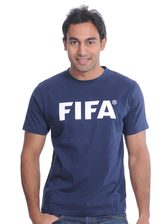clothoes: (23, 65, 151, 215)
